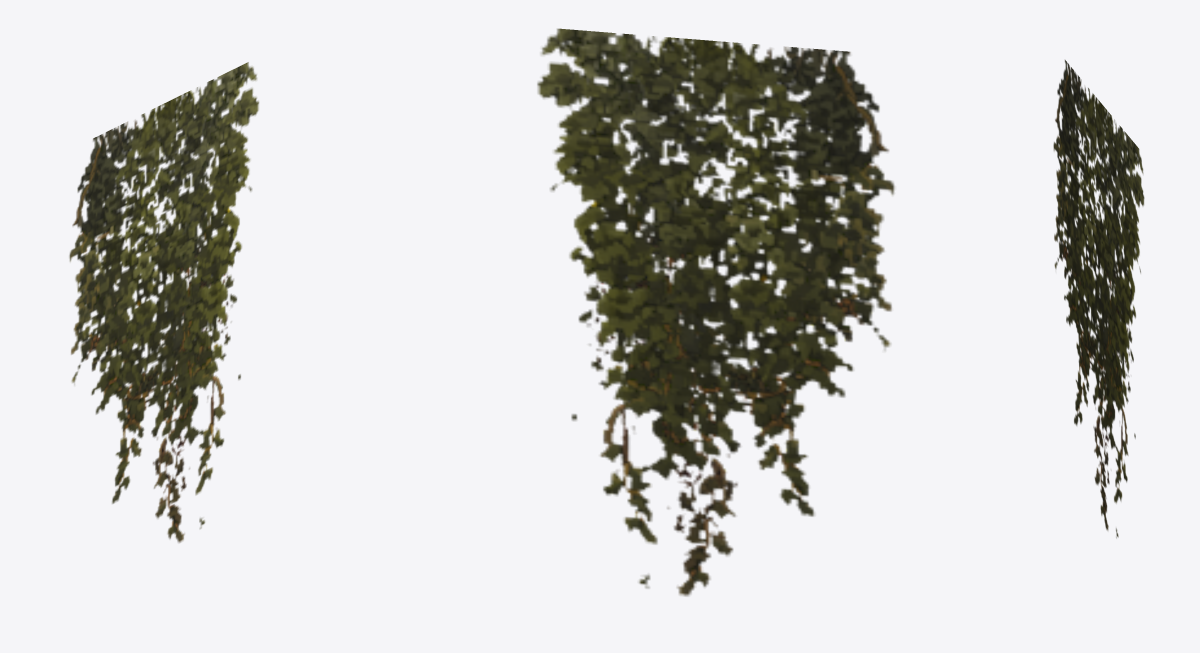
The model's file is GH_1_Ivy_8.gltf.
3 renders of one model, left to right at view 1: azimuth 30°, elevation 25°; view 2: azimuth 150°, elevation 25°; view 3: azimuth 270°, elevation 25°, orthographic. The views are drawn at different scales.
Parts seen in each view (by area): view 1: GH_1_Ivy_8; view 2: GH_1_Ivy_8; view 3: GH_1_Ivy_8.
Part boxes in pixels (x1,y1,x2,y2): GH_1_Ivy_8: (69,62,258,542); GH_1_Ivy_8: (537,28,894,596); GH_1_Ivy_8: (1053,60,1144,538).
Size of the model in its own units: 3.05 by 3.24 by 1.07.
Materials: 1 (1 with a texture image).
